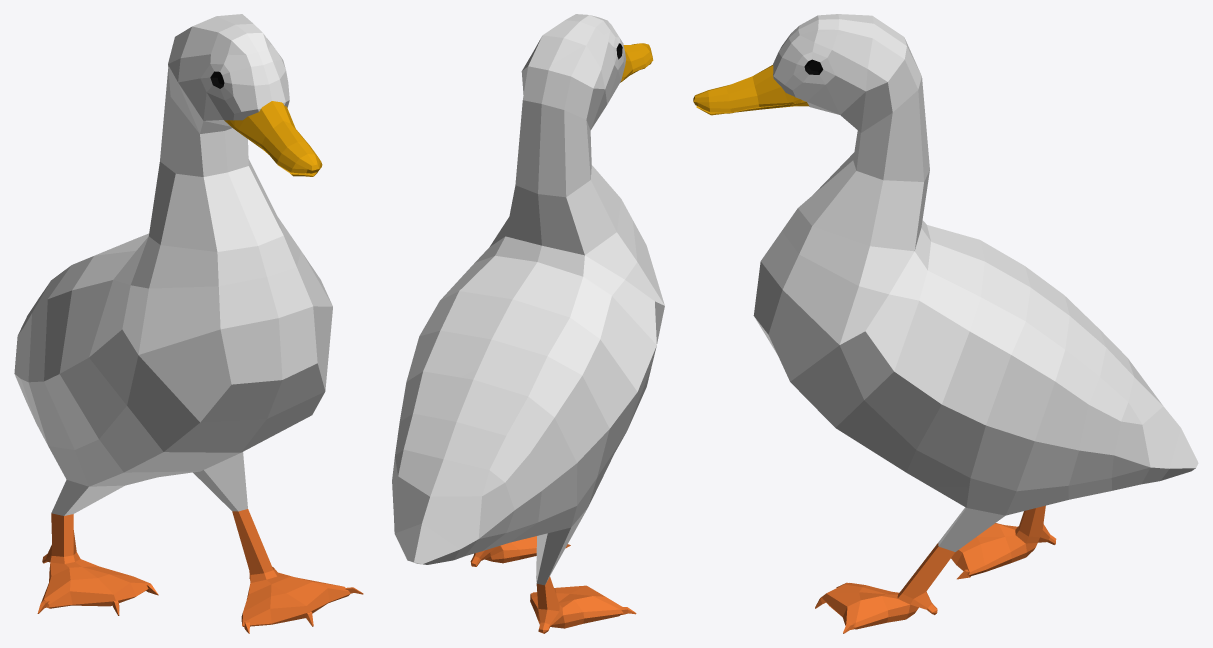
Rendered from Duck_1.FBX.
3 views of the same model, side by side, from view 1: azimuth 30°, elevation 25°; view 2: azimuth 150°, elevation 25°; view 3: azimuth 270°, elevation 25° (orthographic). The views are drawn at different scales.
Visible parts, largest first — view 1: Duck_1; view 2: Duck_1; view 3: Duck_1.
Boxes of the visible parts, x1,y1,x2,y2 form: Duck_1: (14, 14, 363, 633); Duck_1: (392, 14, 664, 633); Duck_1: (693, 14, 1198, 633).
Size of the model in its own units: 0.2687 by 0.6027 by 0.4869.
Materials: 1 (1 with a texture image).
